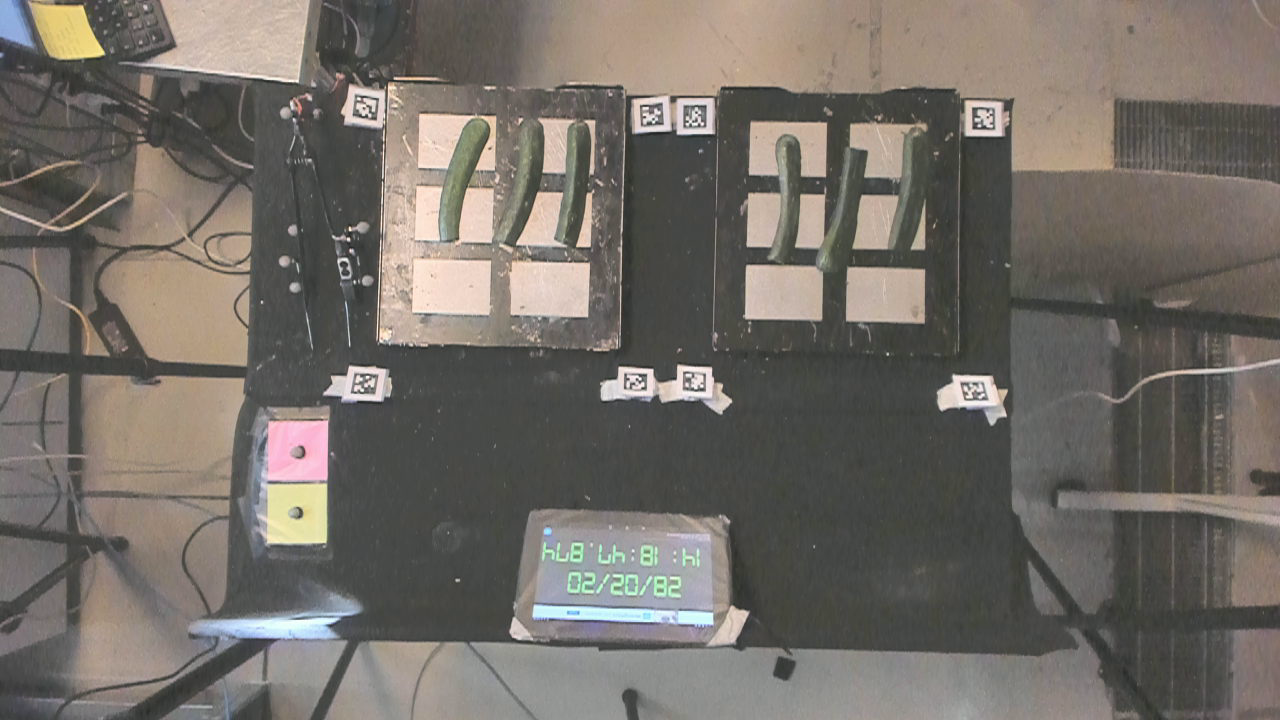marker: (265, 419, 333, 485)
zucchini: (813, 135, 870, 280), (436, 106, 492, 246), (549, 118, 598, 245), (502, 113, 546, 251), (763, 129, 798, 262), (897, 116, 918, 261)
